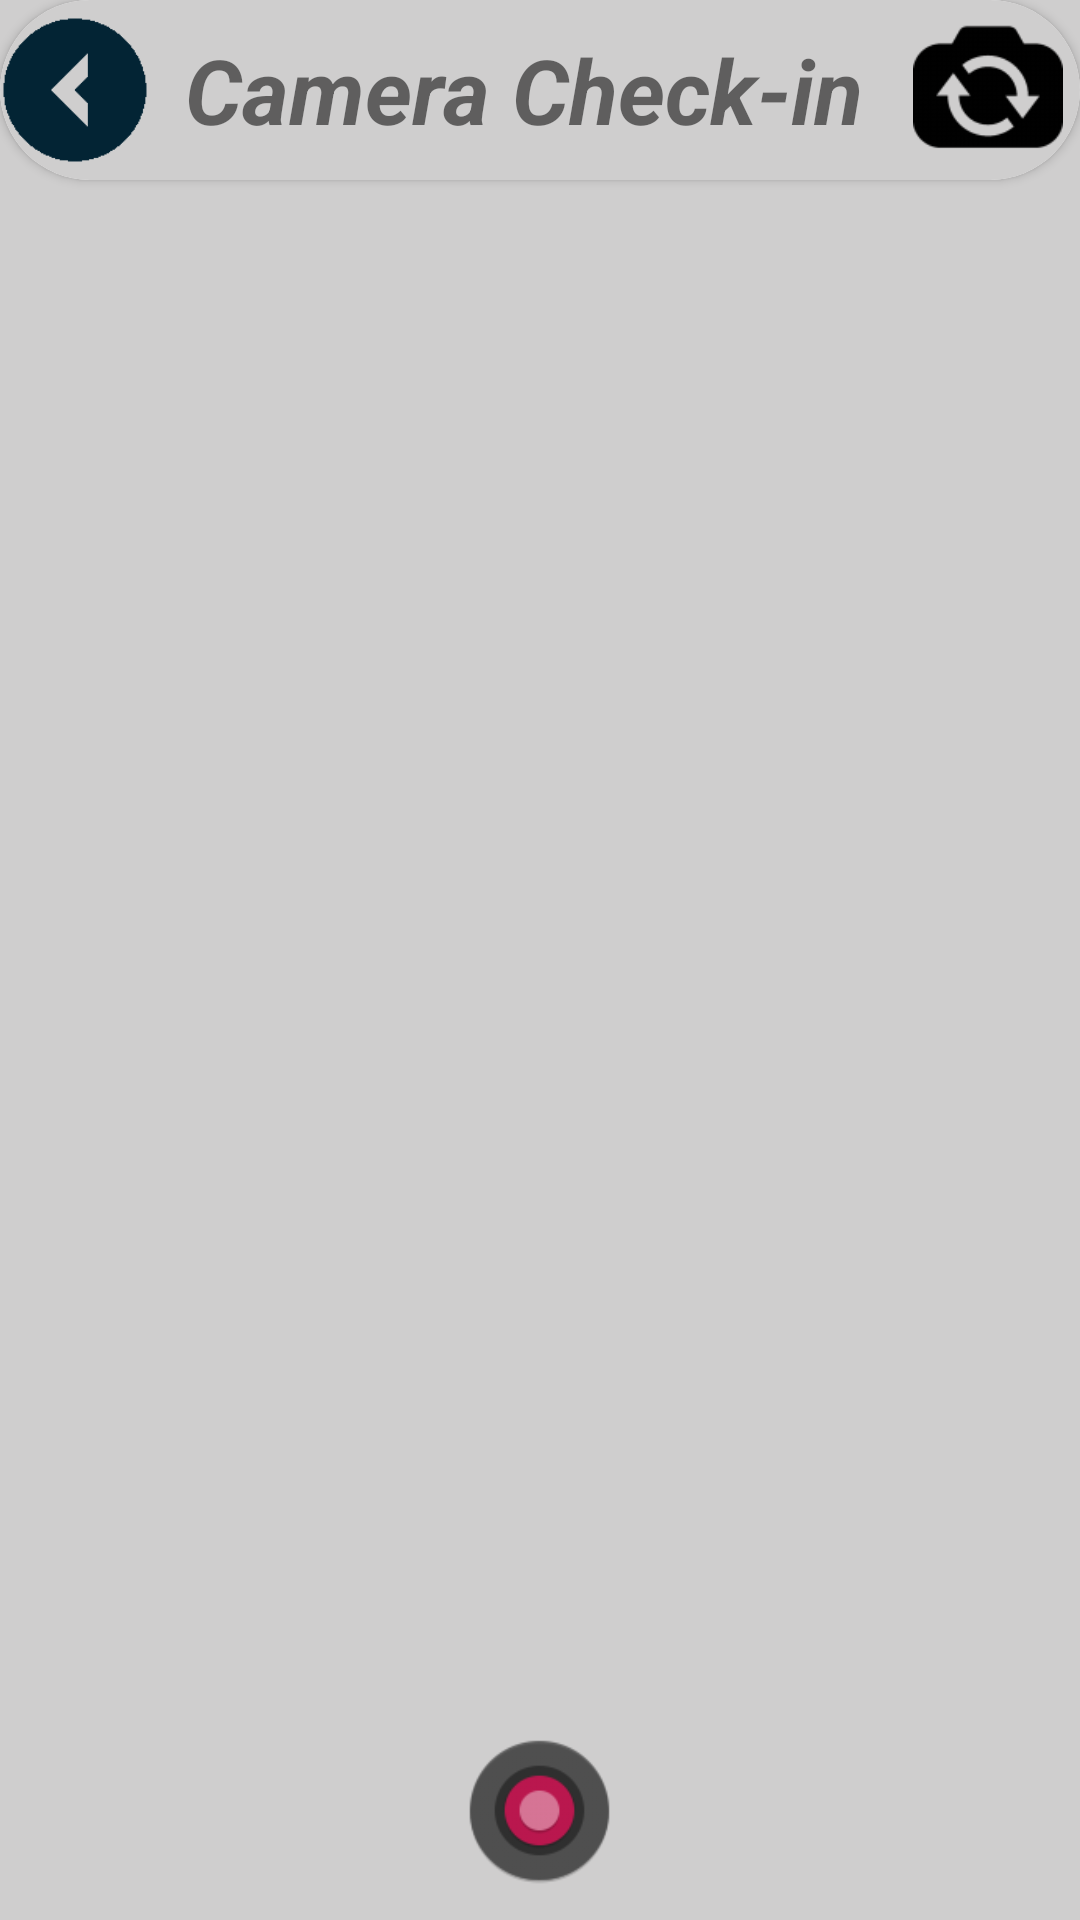

Icon click points for this 1080×1920 phone screenshot, format (x,y):
back: (73,90)
capture: (539,1811)
change camera: (996,86)
